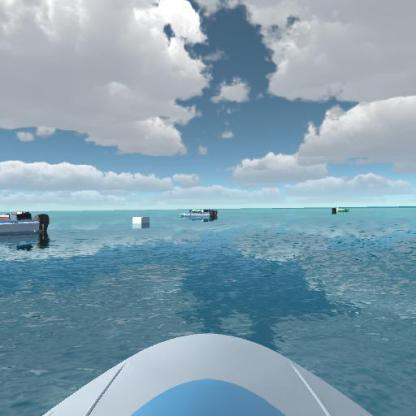usv0: (327, 198, 353, 221)
usv1: (1, 210, 57, 242), (176, 201, 222, 223)
usv3: (1, 204, 34, 222)
